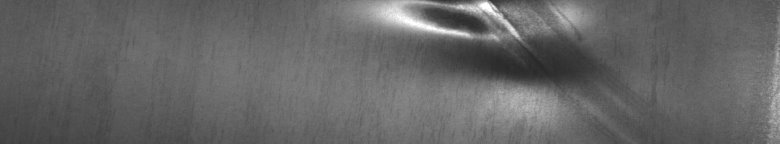ke: (400, 4, 565, 84)
